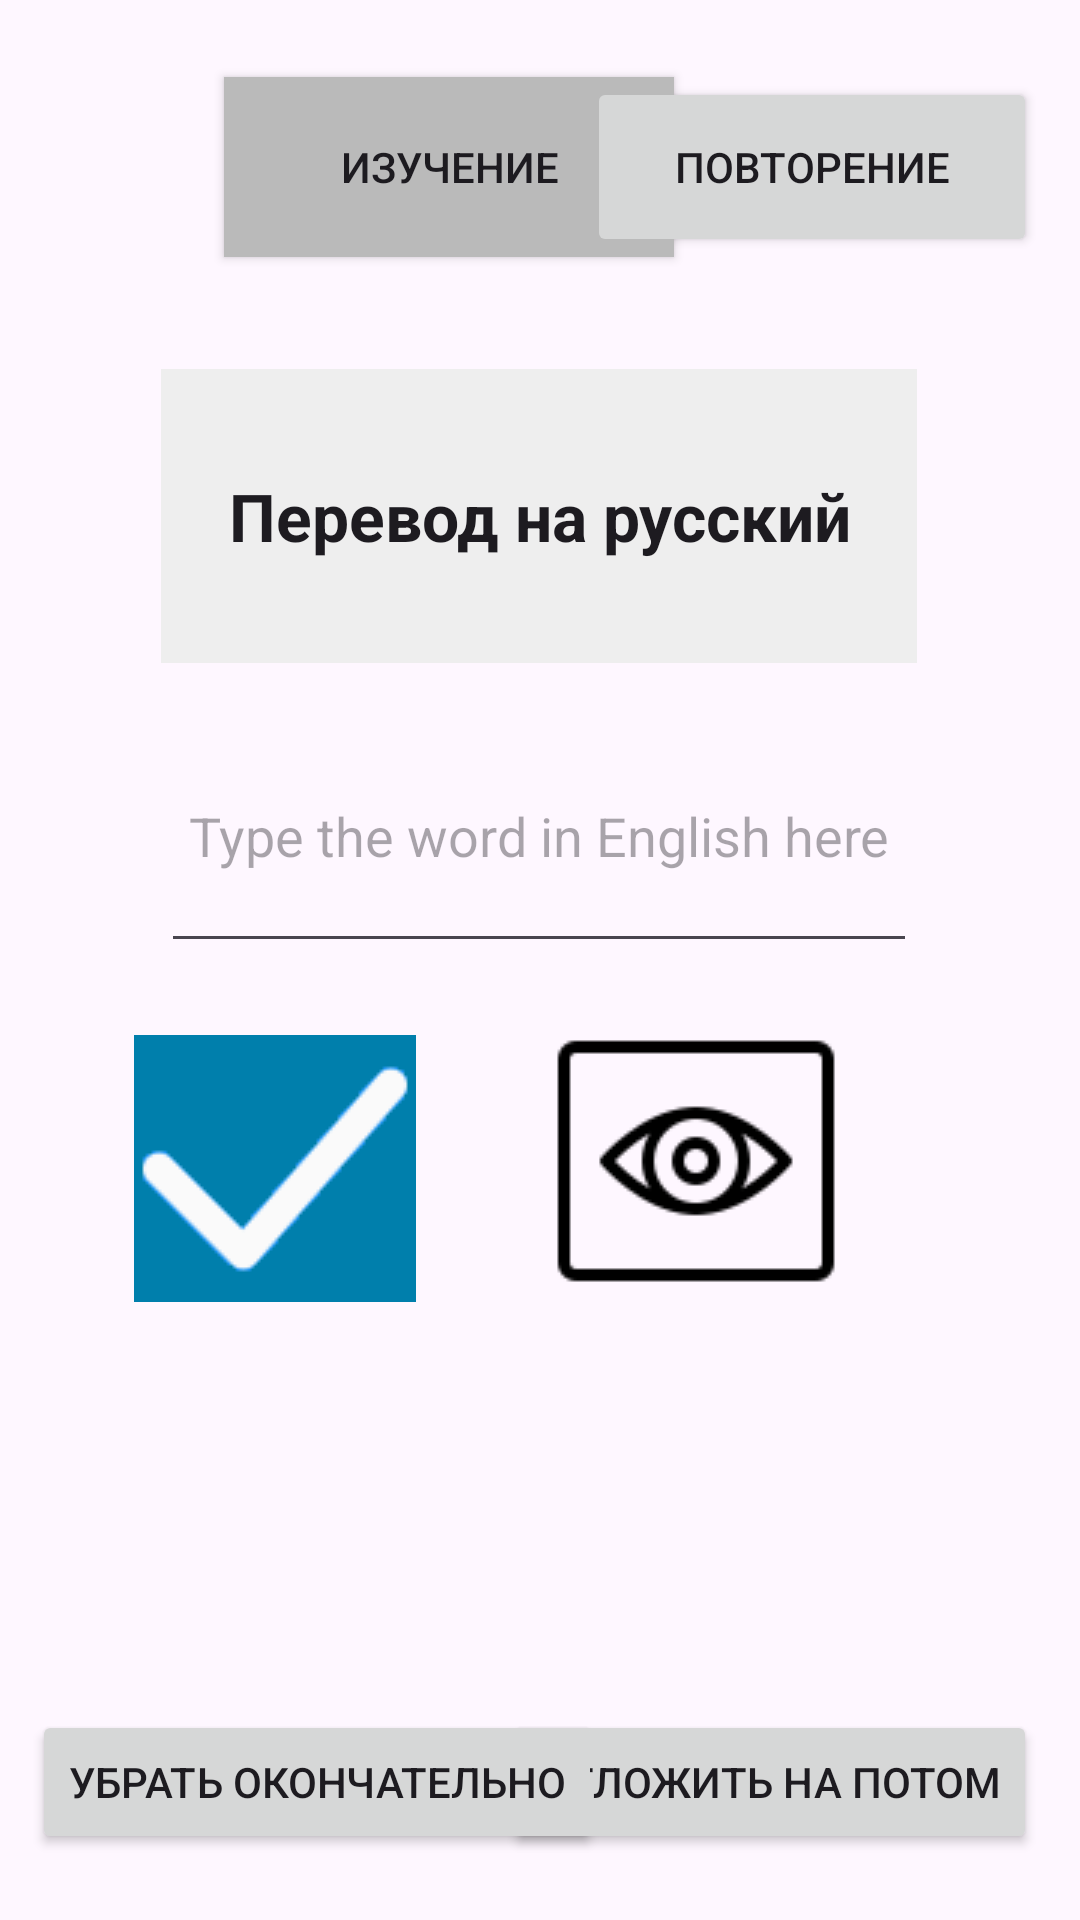

Named icons in this screenshot (1080*1920) and their centers, (x,y):
check: (275,1168)
eye: (696,1161)
